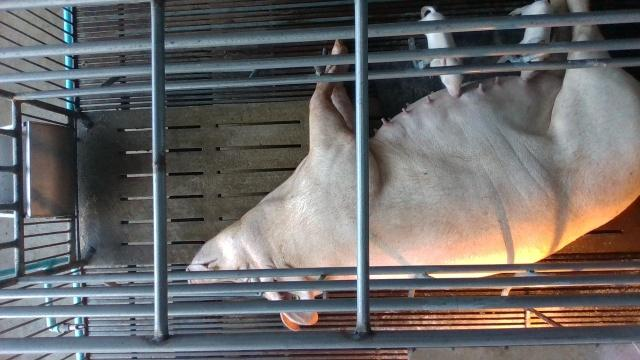piglet: (417, 5, 465, 99), (508, 0, 554, 82)
sow-sleep-lactate: (185, 0, 640, 330)
